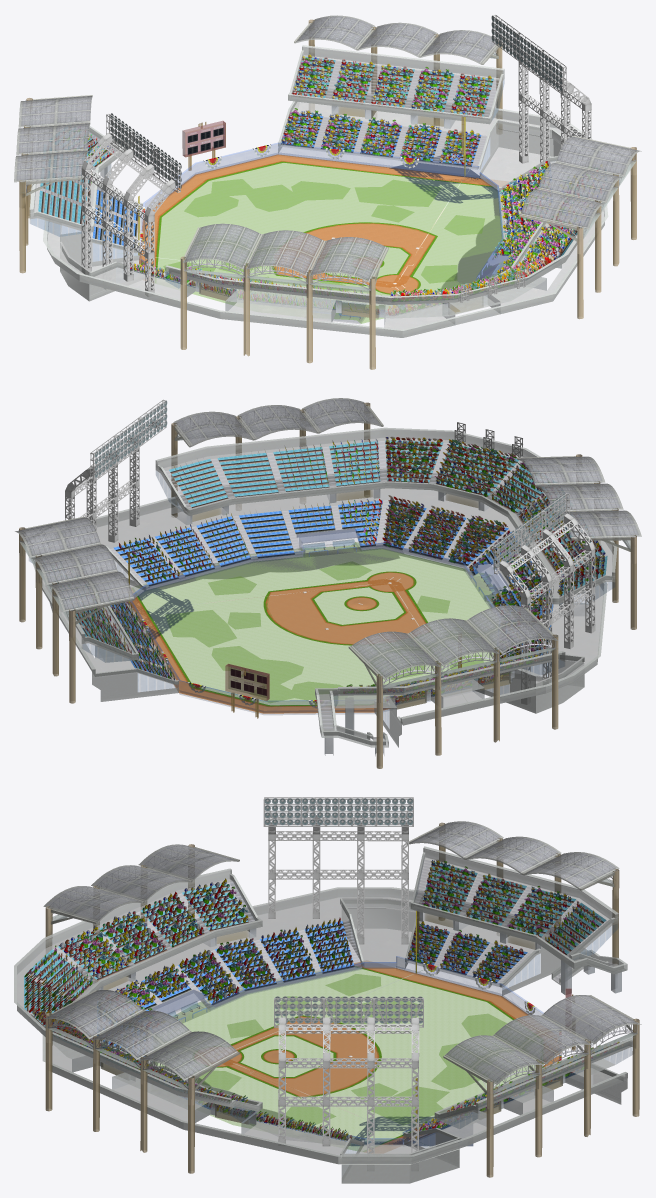
The model's file is estadio.glb.
3 renders of one model, top to bottom at view 1: azimuth 30°, elevation 25°; view 2: azimuth 150°, elevation 25°; view 3: azimuth 270°, elevation 25°, orthographic. The views are drawn at different scales.
Parts seen in each view (by area): view 1: Object_73, Object_78, Object_59, Object_31, Object_65, Object_77, Object_39, Object_63, Object_76, Object_70, Object_43, Object_52 (+26 smaller); view 2: Object_73, Object_78, Object_59, Object_31, Object_65, Object_70, Object_41, Object_77, Object_43, Object_63, Object_39, Object_76 (+27 smaller); view 3: Object_78, Object_59, Object_73, Object_31, Object_65, Object_43, Object_77, Object_39, Object_70, Object_76, Object_41, Object_50 (+22 smaller).
Boxes of the visible parts, x1,y1,x2,y2 form: Object_73: (158, 162, 514, 323); Object_78: (14, 15, 639, 282); Object_59: (14, 15, 641, 282); Object_31: (34, 55, 609, 337); Object_65: (29, 46, 612, 337); Object_77: (44, 54, 554, 315); Object_39: (81, 38, 591, 290); Object_63: (139, 154, 507, 293); Object_76: (59, 90, 574, 318); Object_70: (38, 56, 605, 301); Object_43: (130, 161, 604, 313); Object_52: (19, 46, 636, 369); Object_73: (140, 542, 500, 705); Object_78: (15, 398, 641, 679); Object_59: (15, 398, 641, 679); Object_31: (42, 438, 613, 725); Object_65: (39, 429, 615, 747); Object_70: (56, 440, 607, 693); Object_41: (109, 500, 553, 704); Object_77: (63, 437, 543, 703); Object_43: (118, 439, 605, 659); Object_63: (129, 572, 429, 713); Object_39: (65, 423, 595, 689); Object_76: (46, 471, 588, 747); Object_78: (44, 821, 640, 1084); Object_59: (43, 821, 641, 1084); Object_73: (155, 969, 535, 1150); Object_31: (17, 857, 630, 1182); Object_65: (17, 848, 632, 1181); Object_43: (59, 878, 352, 1140); Object_77: (33, 860, 622, 1130); Object_39: (268, 815, 419, 1164); Object_70: (24, 861, 623, 1106); Object_76: (52, 894, 627, 1183); Object_41: (97, 921, 583, 1141); Object_50: (14, 846, 632, 1164).
Size of the model in its own units: 479 by 132 by 463.
74 materials, 73 textured.
